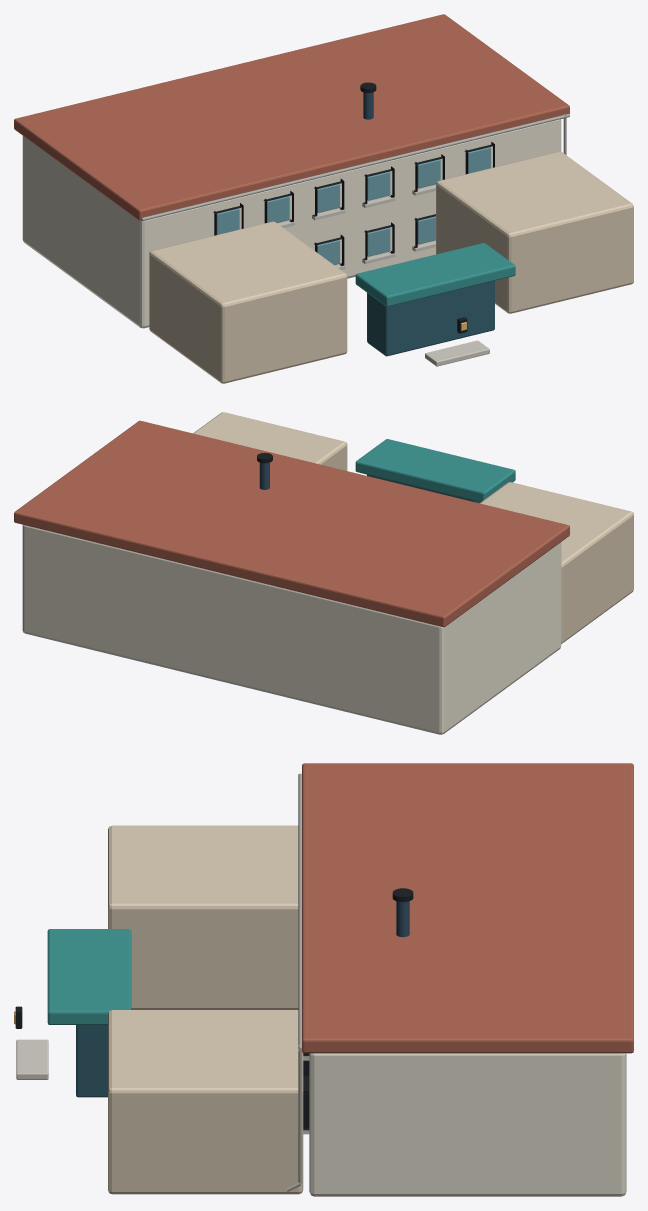
The model's file is EDU_SCHOOL_3x3_001.glb.
3 views of the same model, one above another, from view 1: azimuth 30°, elevation 25°; view 2: azimuth 150°, elevation 25°; view 3: azimuth 270°, elevation 25° (orthographic). The views are drawn at different scales.
Visible parts, largest first — view 1: EDU_SCHOOL_3x3_001_Visual; view 2: EDU_SCHOOL_3x3_001_Visual; view 3: EDU_SCHOOL_3x3_001_Visual.
Part boxes in pixels (<box>): EDU_SCHOOL_3x3_001_Visual: <box>14,14,633,383</box>; EDU_SCHOOL_3x3_001_Visual: <box>14,412,633,734</box>; EDU_SCHOOL_3x3_001_Visual: <box>14,763,633,1196</box>.
Size of what is drawn, in the model's own units: 5.32 by 1.82 by 5.03.
